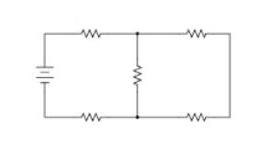resistor: (181, 104, 213, 127), (74, 107, 109, 126), (181, 23, 212, 42), (127, 56, 146, 86), (71, 26, 106, 41)
